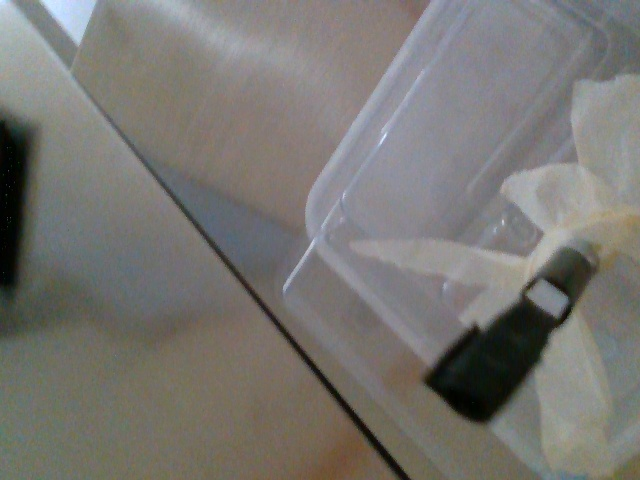test_strip: (420, 277, 566, 425)
